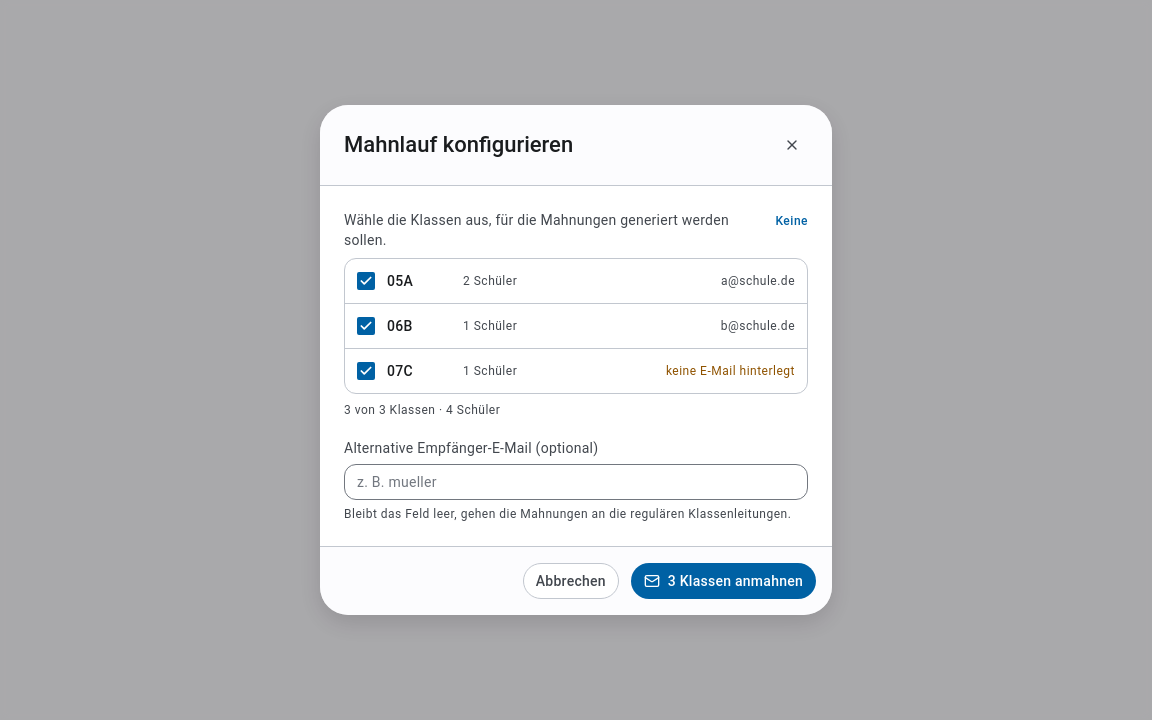
KlassenVersandDialog › sperrt den Versand bei ungültiger Adresse und ohne ausgewählte Klasse
Type "sekretariat@" into the field labelled "Alternative Empfänger-E-Mail (optional)" at [576, 482], box [344, 464, 808, 500]
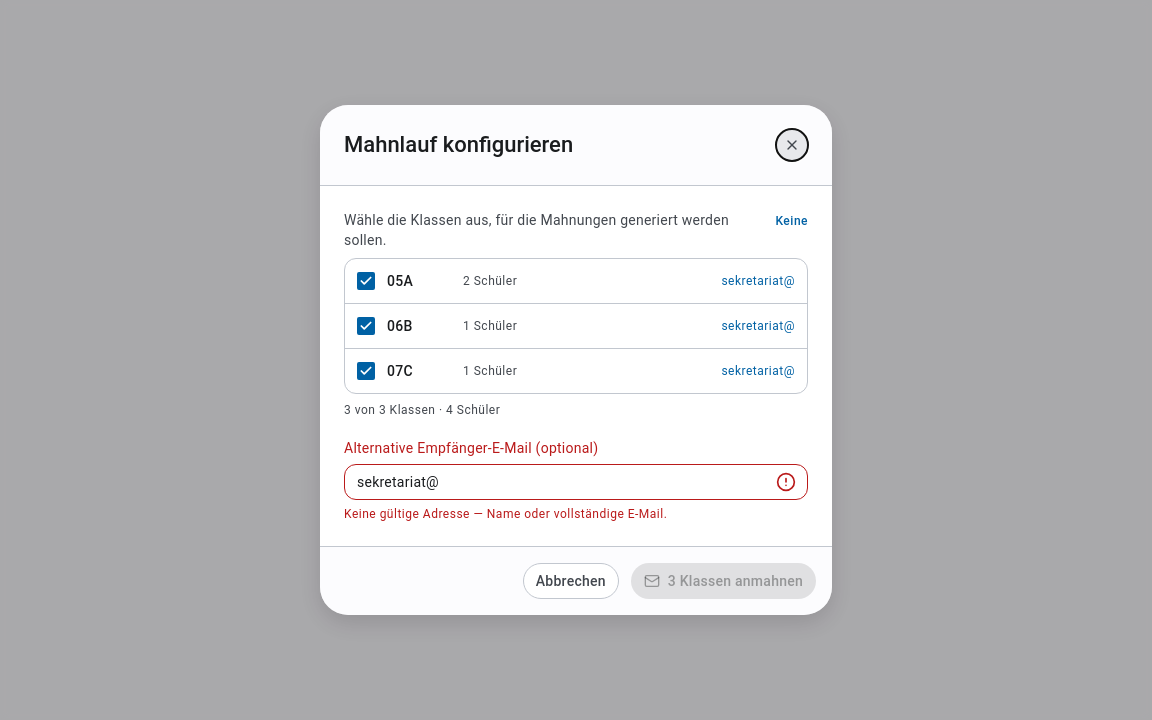
Result: the button "3 Klassen anmahnen" is disabled at [631, 563, 816, 599]
Clear the field labelled "Alternative Empfänger-E-Mail (optional)" at [576, 482], box [344, 464, 808, 500]
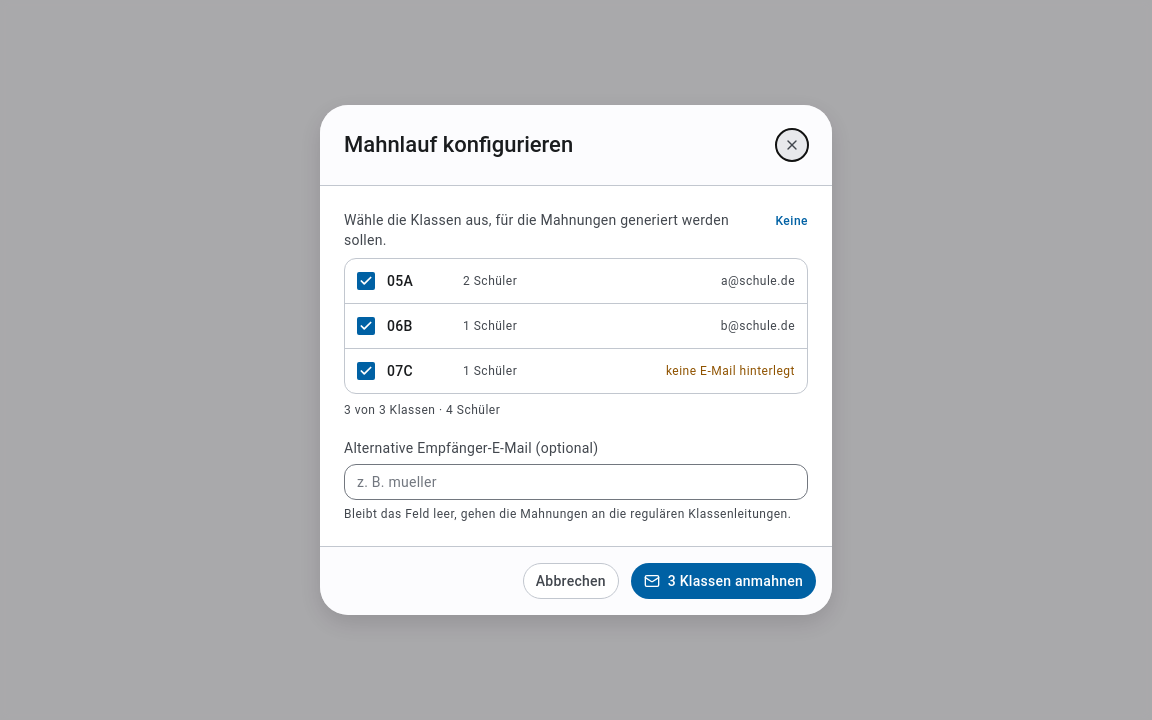
Click the checkbox labelled "05A 2 Schüler a@schule.de" at [366, 281], box [346, 261, 386, 301]
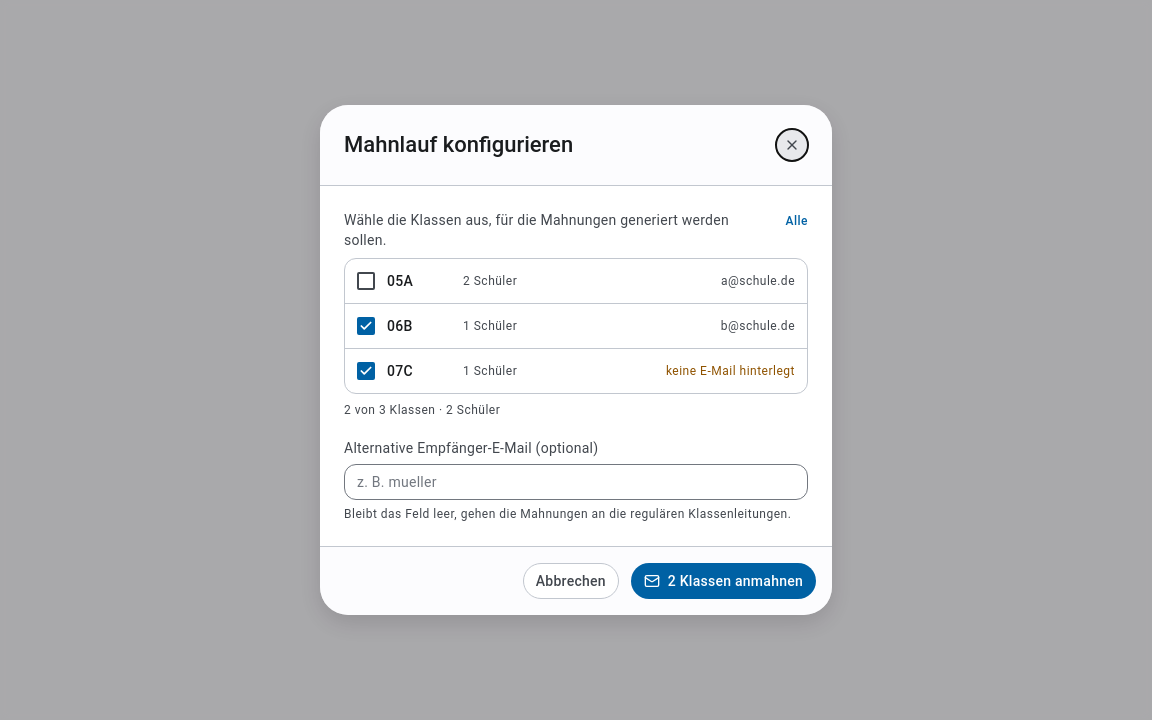
Click the checkbox labelled "06B 1 Schüler b@schule.de" at [366, 326], box [346, 306, 386, 346]
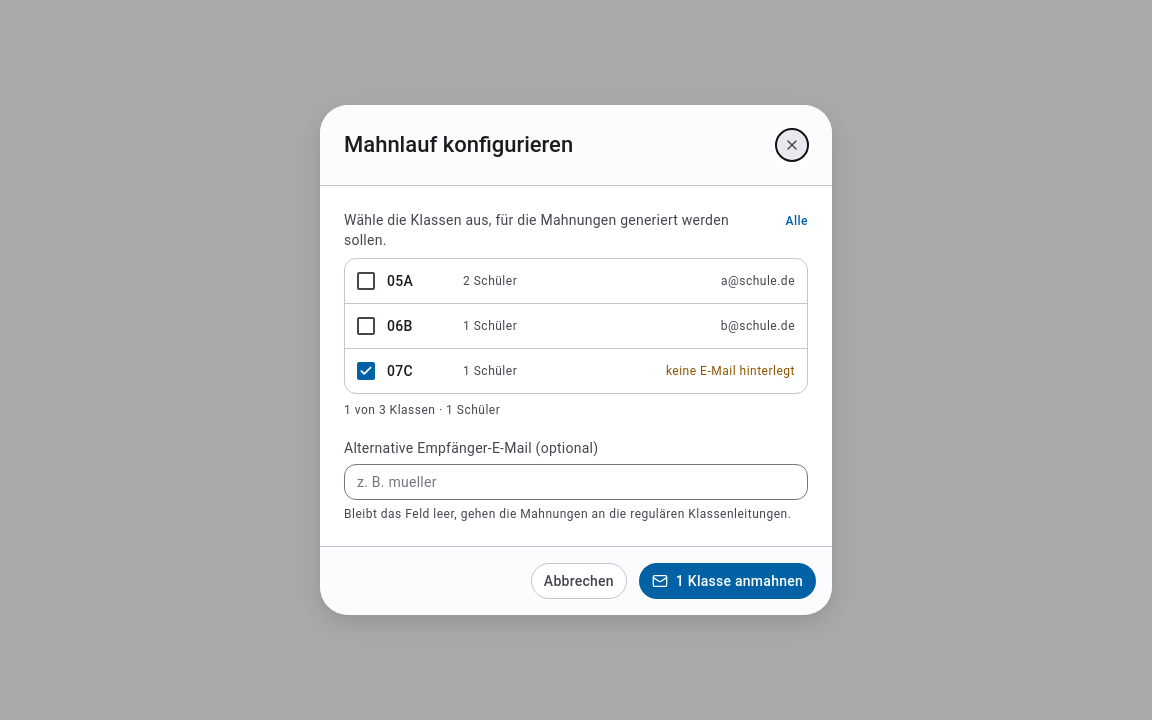
Click the checkbox labelled "07C 1 Schüler keine E-Mail hinterlegt" at [366, 371], box [346, 351, 386, 391]
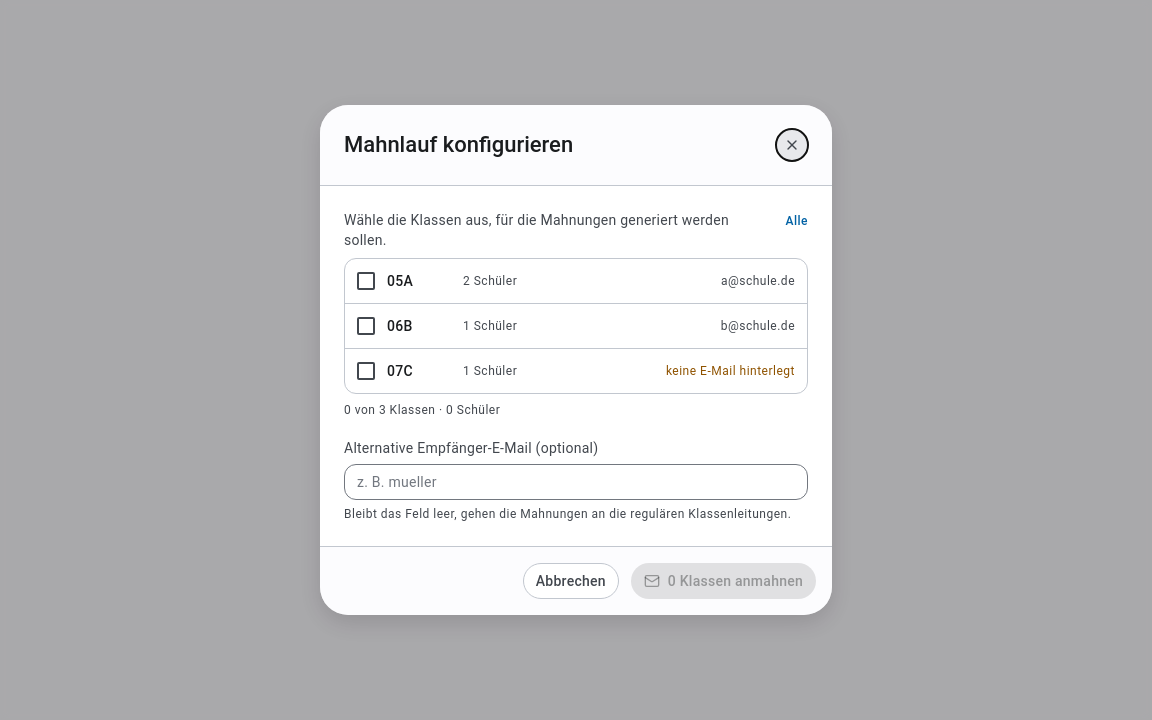
Result: the button "0 Klassen anmahnen" is disabled at [631, 563, 816, 599]
